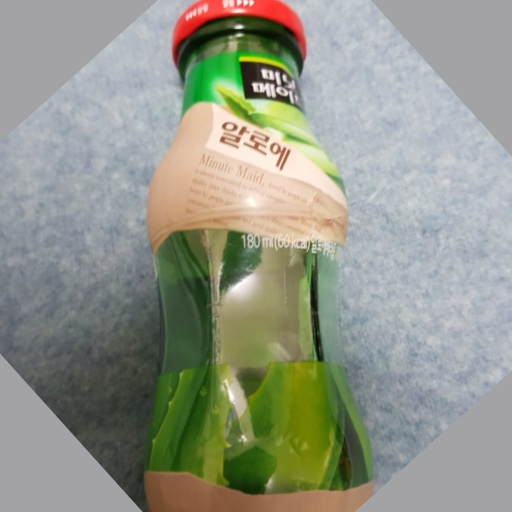Glass_4: (140, 4, 366, 512)
